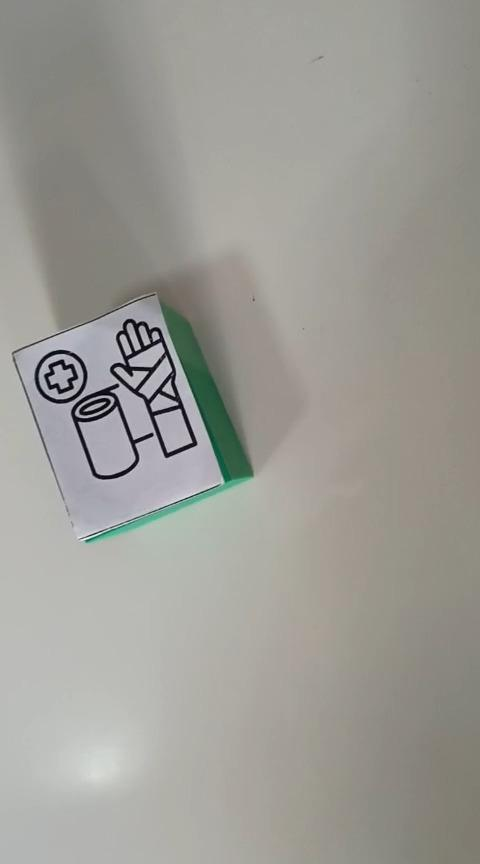Bandages: (11, 290, 254, 542)
